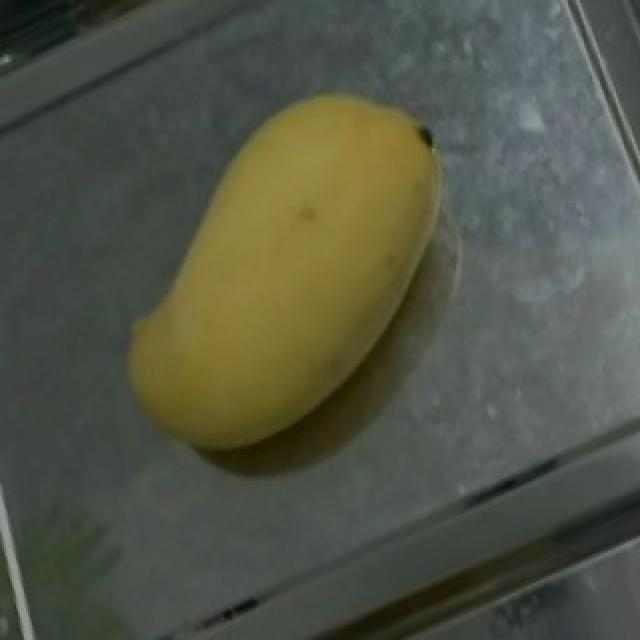fruit: (138, 37, 510, 422)
